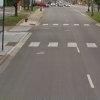Crosswalk: (16, 36, 100, 67)
